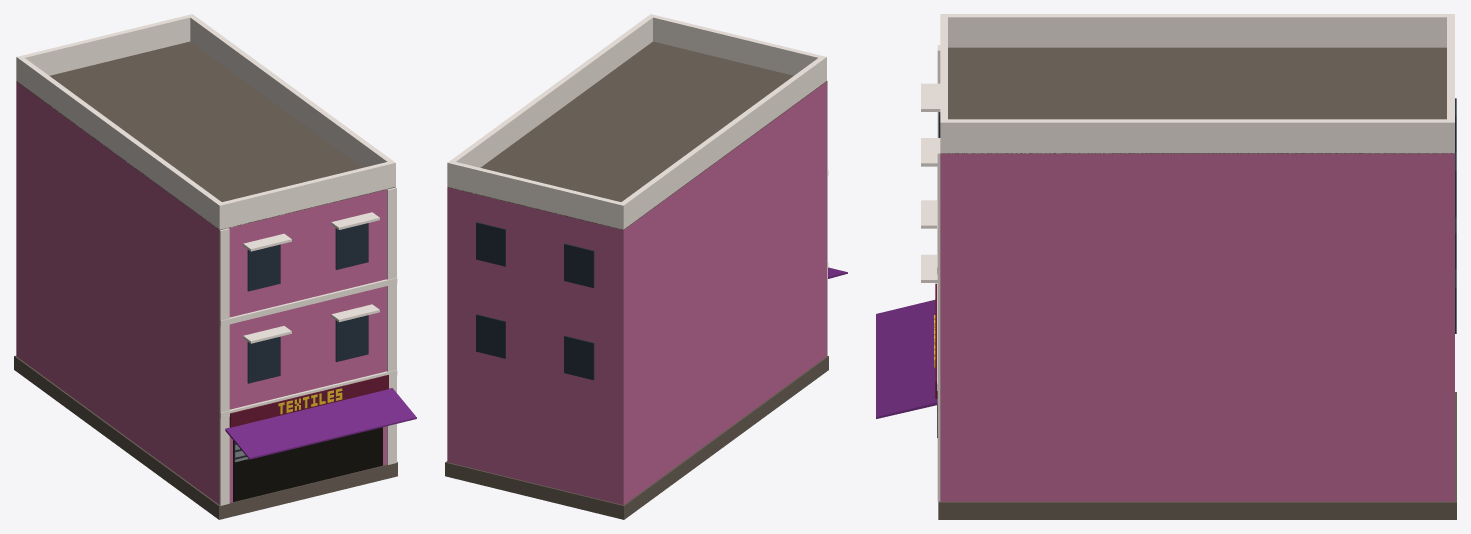
Rendered from bld_ot_textiles.glb.
3 renders of one model, left to right at view 1: azimuth 30°, elevation 25°; view 2: azimuth 150°, elevation 25°; view 3: azimuth 270°, elevation 25°, orthographic. The views are drawn at different scales.
Parts seen in each view (by area): view 1: bld_ot_textiles; view 2: bld_ot_textiles; view 3: bld_ot_textiles.
Part boxes in pixels (bbox=[...]): bld_ot_textiles: bbox=[14, 14, 416, 519]; bld_ot_textiles: bbox=[445, 14, 847, 519]; bld_ot_textiles: bbox=[876, 14, 1456, 519].
Size of what is drawn, in the model's own units: 6.1 by 10.2 by 13.55.
